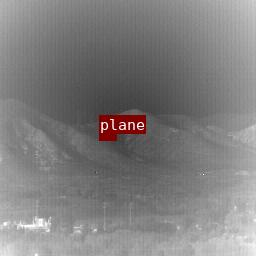plane: (99, 134, 116, 140)
